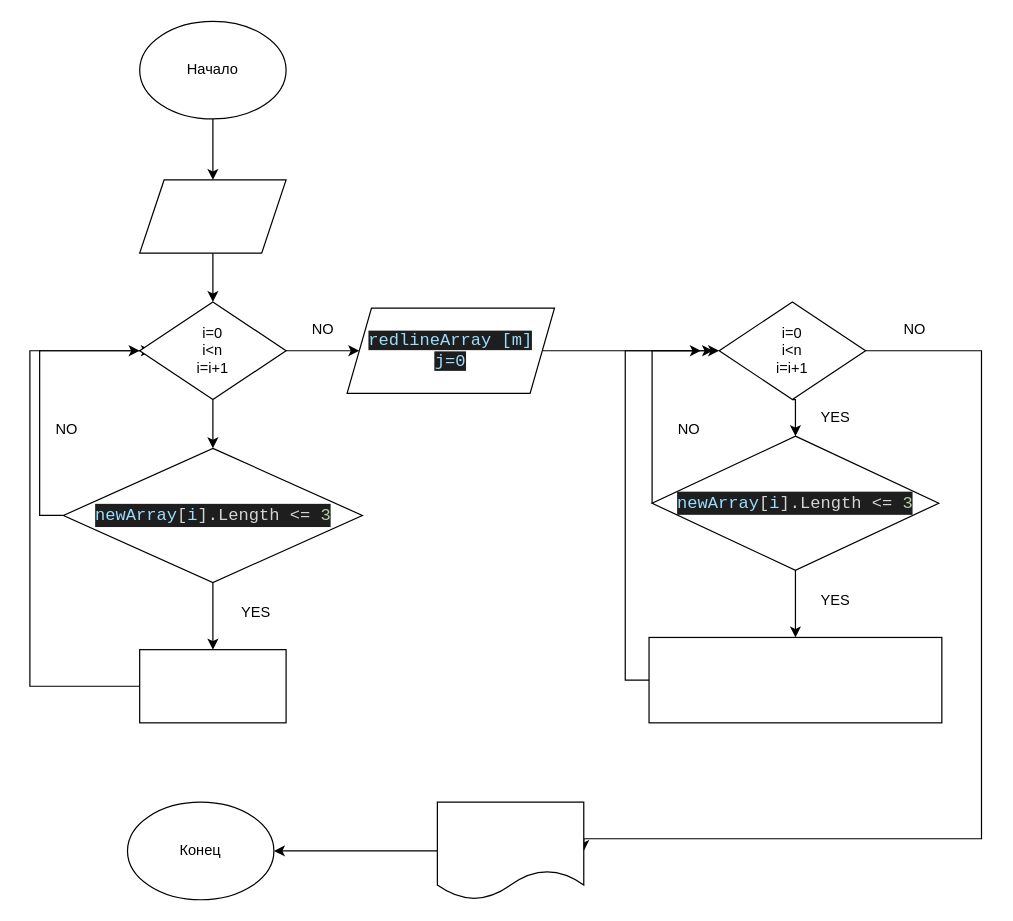
The diagram is 1013 pixels wide and 921 high, and some of its shapes have lost their labels. Each missing label, with the centre of its shape:
"m=m+1" goes at point 212,685.
"newArray [n] m=0" goes at point 212,216.
"newArray redlineArray" goes at point 510,850.
"redlineArray [j]=newArray[i] j=j+1" goes at point 795,679.
